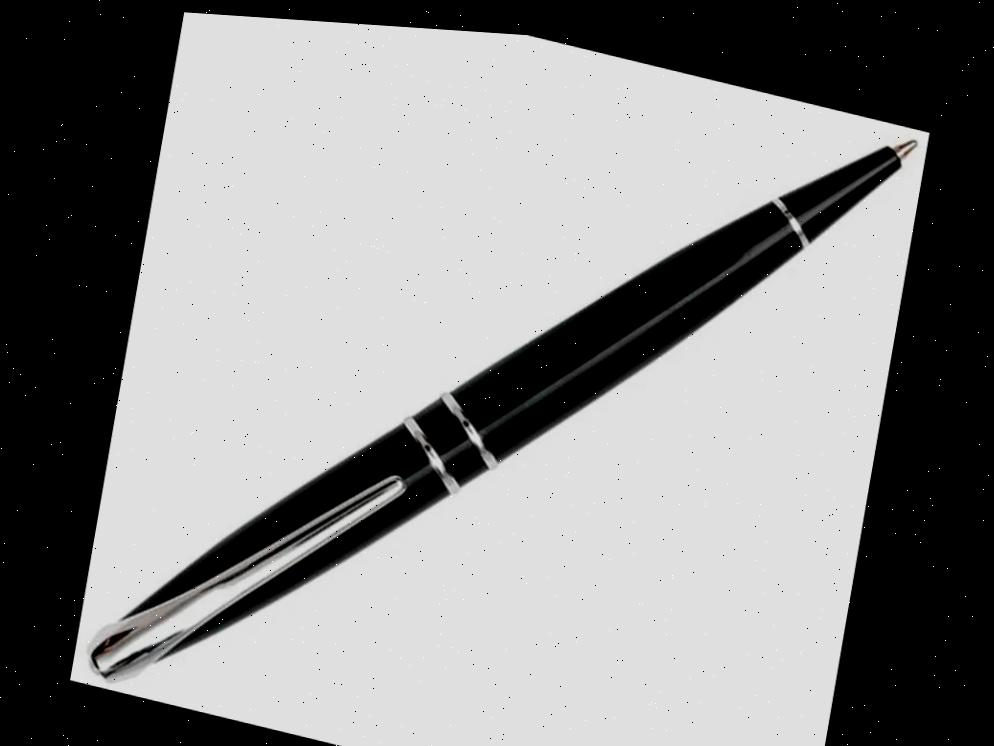pen-pencil: (89, 139, 916, 678)
